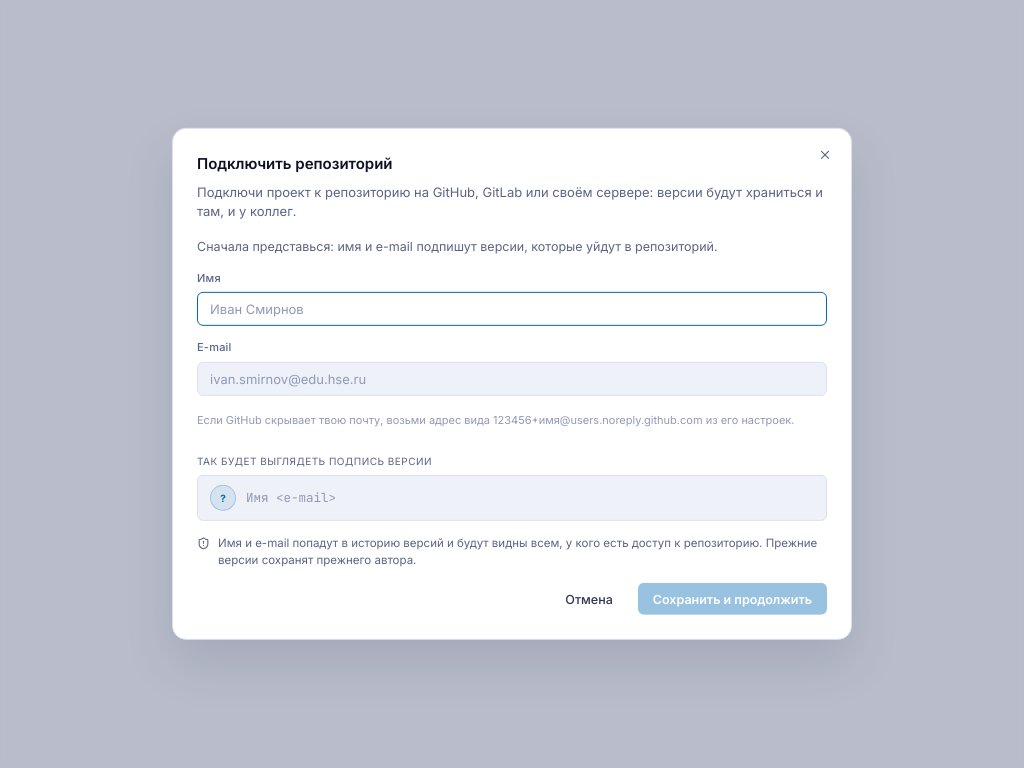
Test: окно подключения поверх демо-транспорта › без автора версий сначала «Представься»
Type "Анна Петрова" into the field labelled "Имя" at point(512, 309), box [197,292,827,326]
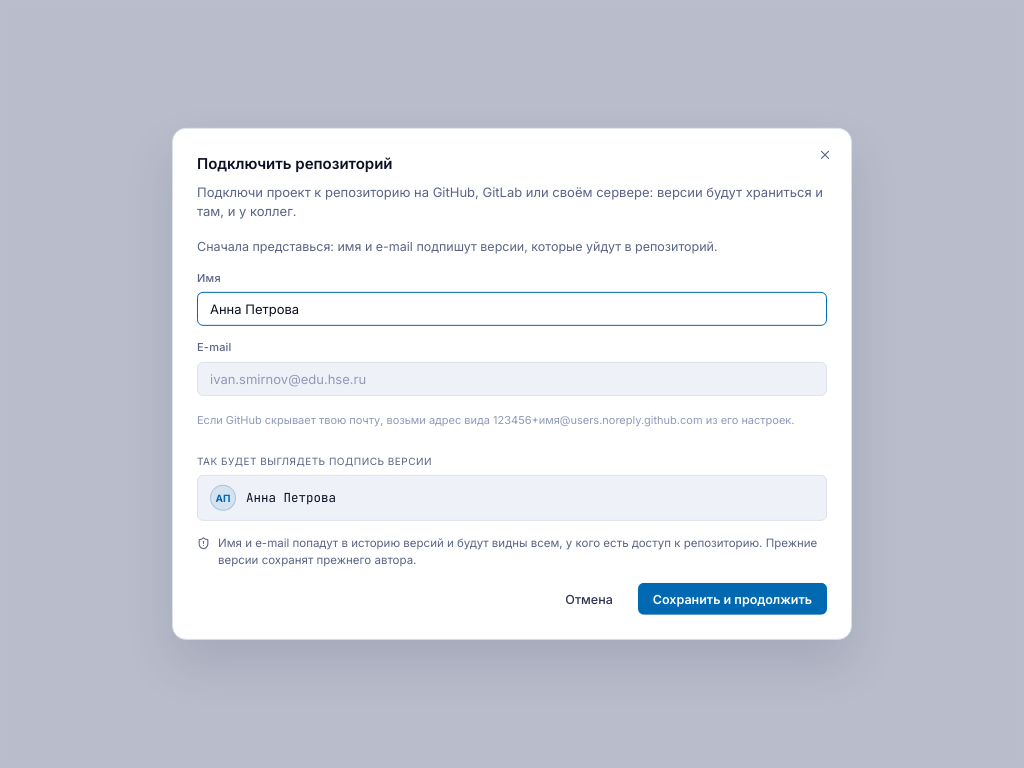
Type "anna@edu.hse.ru" into the field labelled "E-mail" at point(512, 379), box [197,362,827,396]
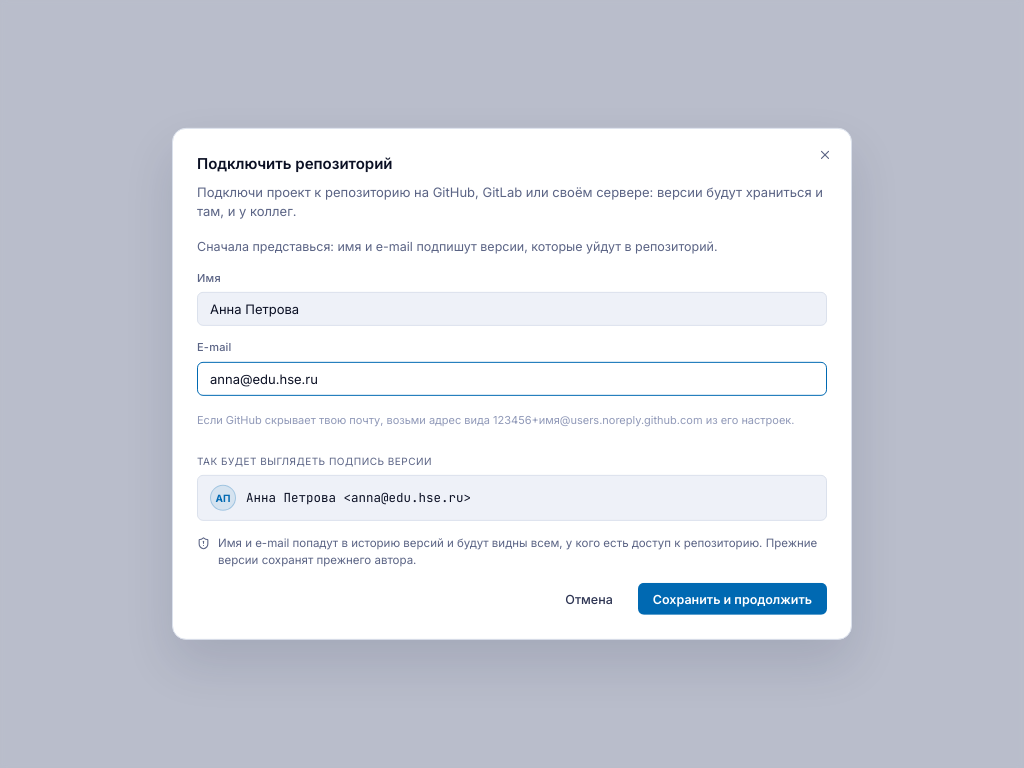
Click the button "Сохранить и продолжить" at point(732, 599), box [638,583,827,615]
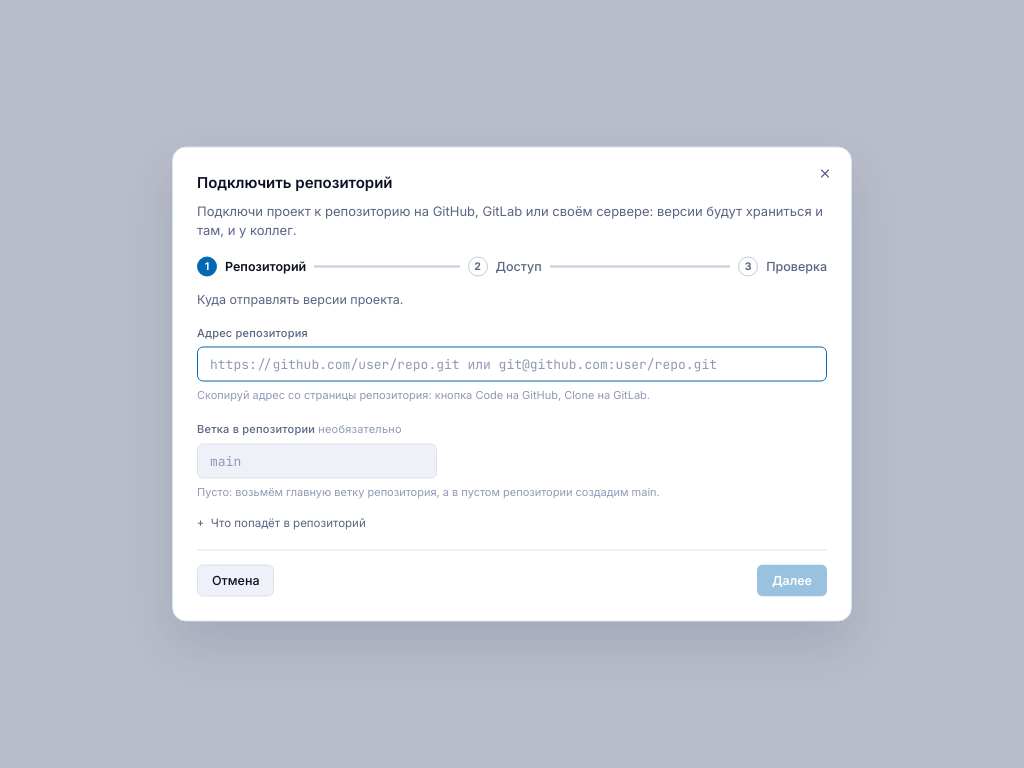
Expected: the field labelled "Адрес репозитория" is shown, [197,347,827,382]
